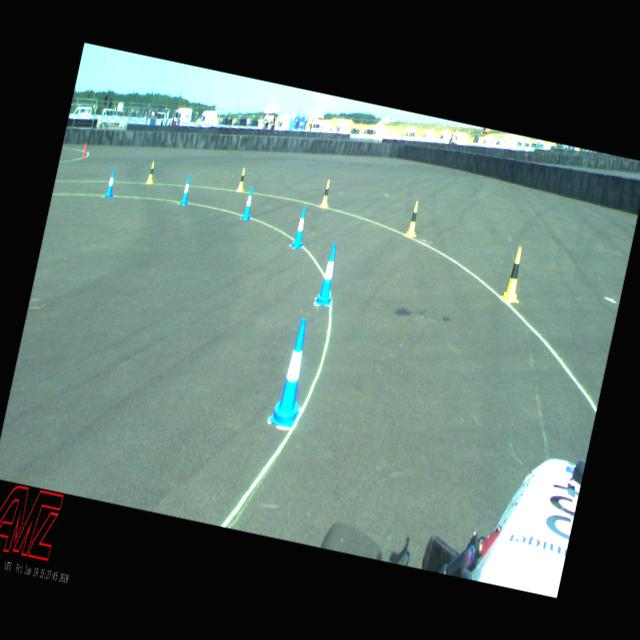blue_cone: (268, 316, 318, 428), (314, 242, 342, 306), (290, 204, 310, 250), (240, 184, 257, 221), (178, 174, 193, 206), (104, 168, 117, 198)
unknown_cone: (81, 145, 88, 158), (82, 140, 86, 152)
yellow_cone: (501, 246, 526, 303), (403, 199, 423, 238), (320, 179, 332, 208), (236, 166, 247, 191), (146, 160, 156, 183)
